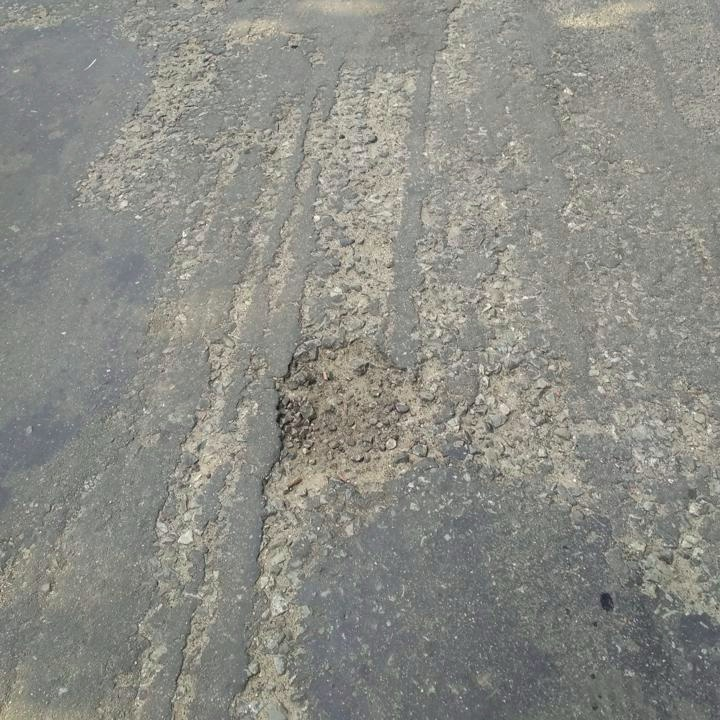pothole: (256, 333, 415, 504)
